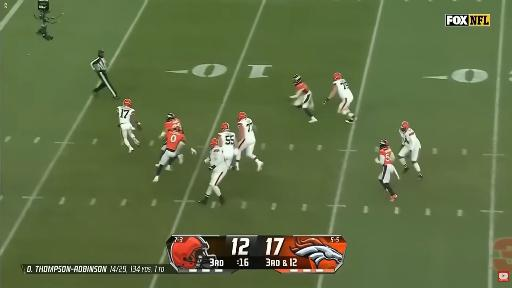Helmet: (172, 123, 182, 133), (210, 138, 219, 148), (293, 75, 302, 84), (401, 122, 409, 131), (380, 140, 388, 149), (238, 112, 246, 121), (221, 123, 229, 131), (167, 113, 175, 121), (124, 99, 131, 106), (334, 73, 341, 80)
Jersey: (400, 128, 420, 148), (334, 79, 353, 99), (218, 131, 235, 153), (238, 118, 255, 140), (166, 132, 185, 151), (209, 147, 225, 168), (117, 106, 134, 123), (163, 118, 181, 133), (379, 148, 394, 165), (295, 83, 309, 94)
Player: (198, 139, 227, 205), (153, 126, 185, 182), (235, 112, 263, 171), (323, 73, 354, 123), (375, 140, 397, 201), (399, 122, 422, 179), (290, 75, 317, 122), (117, 99, 139, 152), (218, 123, 237, 168), (159, 113, 182, 138)
